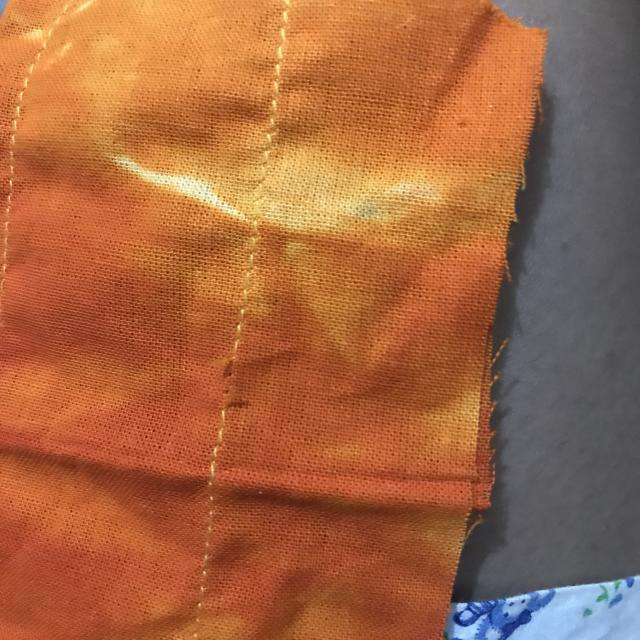broken: (212, 338, 248, 418)
